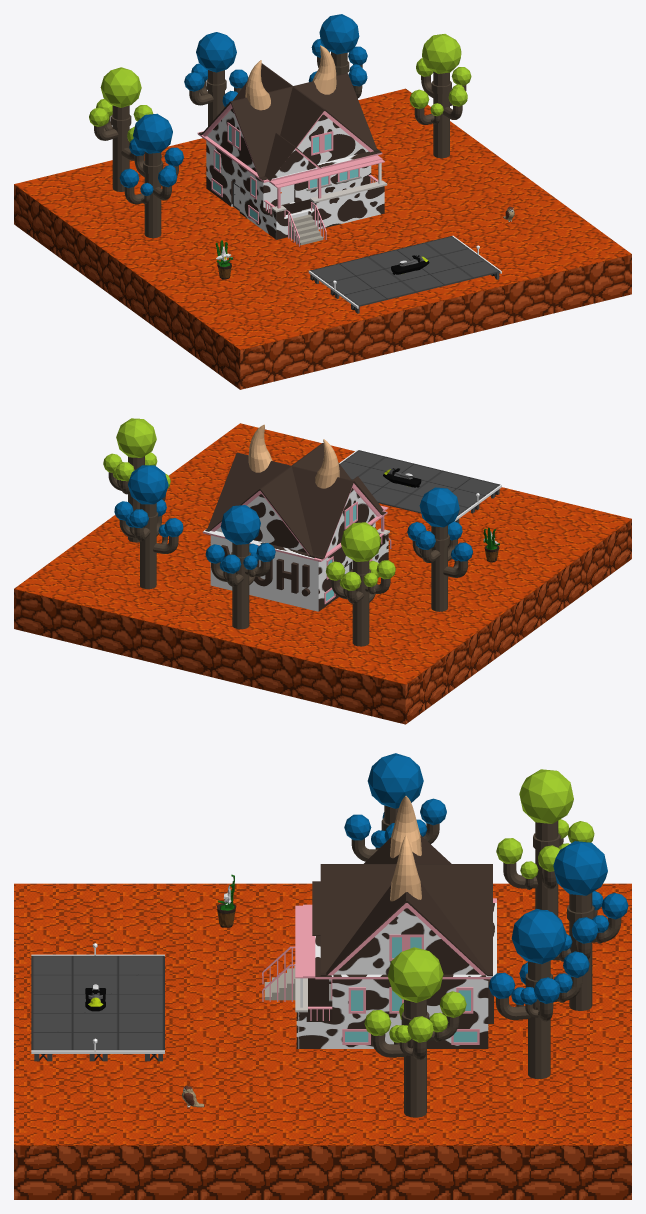
The picture shows the model from 3 angles, top to bottom: view 1: azimuth 30°, elevation 25°; view 2: azimuth 150°, elevation 25°; view 3: azimuth 270°, elevation 25°; orthographic projection. The views are drawn at different scales.
Visible parts, largest first — view 1: Cube.001, Cube.1242; view 2: Cube.001, Cube.1242, VEHICLES_WATERBIKE; view 3: Cube.001, Cube.1242.
Boxes of the visible parts, left/top/right/bottom form: Cube.001: left=14, top=14, right=631, bottom=389; Cube.1242: left=197, top=45, right=387, bottom=246; Cube.001: left=14, top=418, right=631, bottom=724; Cube.1242: left=202, top=424, right=391, bottom=611; VEHICLES_WATERBIKE: left=383, top=468, right=421, bottom=487; Cube.001: left=14, top=753, right=631, bottom=1199; Cube.1242: left=262, top=796, right=496, bottom=1048.
Bounding box in the file's own units: 4000 × 1886 × 4000.
34 materials, 4 textured.
